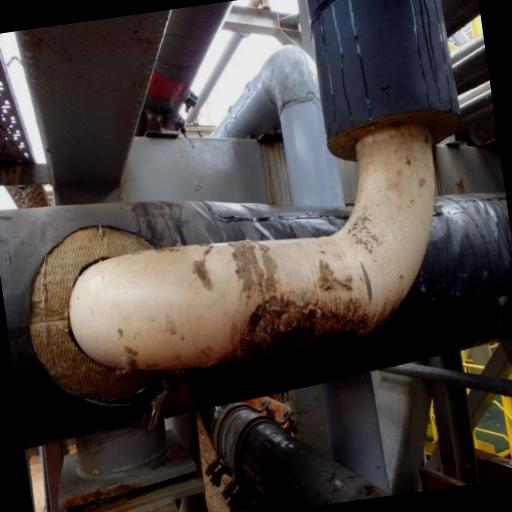corrosion: (231, 238, 382, 369)
